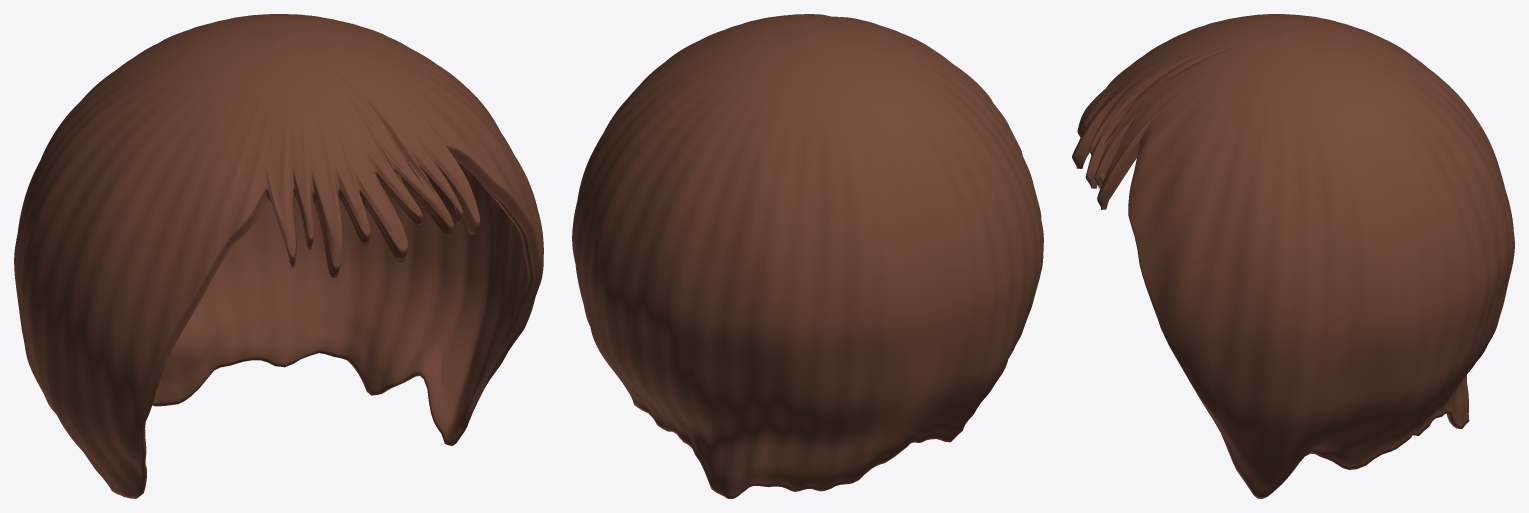
Rendered from side-sweep-pashmina.glb.
3 renders of one model, left to right at view 1: azimuth 30°, elevation 25°; view 2: azimuth 150°, elevation 25°; view 3: azimuth 270°, elevation 25°, orthographic. The views are drawn at different scales.
Parts seen in each view (by area): view 1: Hair / layered lob; view 2: Hair / layered lob; view 3: Hair / layered lob.
Boxes of the visible parts, x1,y1,x2,y2 form: Hair / layered lob: (14,14,543,498); Hair / layered lob: (572,14,1043,498); Hair / layered lob: (1072,14,1514,498).
Bounding box in the file's own units: 0.8384 × 0.7657 × 0.7825.
